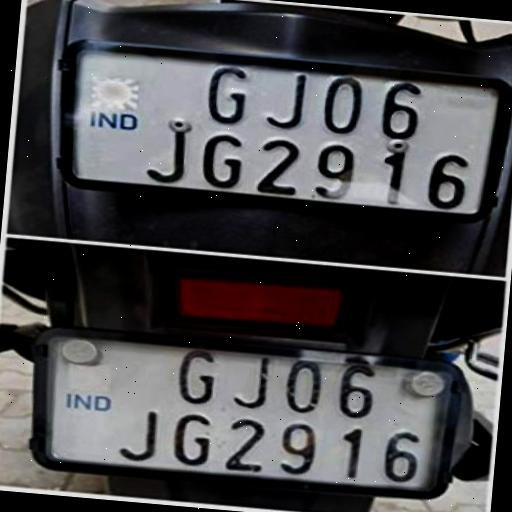number plate: (57, 44, 502, 223), (32, 333, 454, 496)
